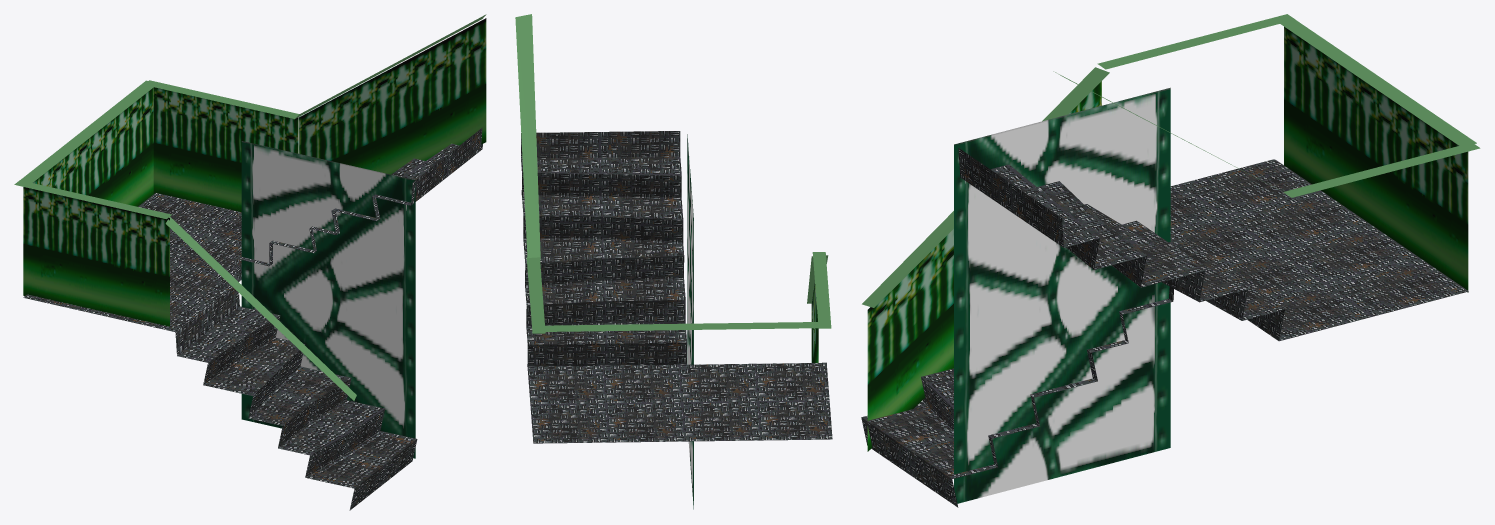
Rendered from Polizei_Treppe_2543.glb.
3 views of the same model, side by side, from view 1: azimuth 30°, elevation 25°; view 2: azimuth 150°, elevation 25°; view 3: azimuth 270°, elevation 25° (orthographic). The views are drawn at different scales.
Visible parts, largest first — view 1: pPlaneShape50, pPlaneShape64, pPlaneShape52, pPlaneShape54, pPlaneShape53, pPlaneShape63, pPlaneShape55, pPlaneShape62, pPlaneShape56, pPlaneShape58, pPlaneShape59, pPlaneShape60 (+1 smaller); view 2: pPlaneShape62, pPlaneShape63, pPlaneShape57, pPlaneShape58, pPlaneShape61, pPlaneShape59, pPlaneShape60, pPlaneShape51; view 3: pPlaneShape61, pPlaneShape63, pPlaneShape55, pPlaneShape62, pPlaneShape51, pPlaneShape64, pPlaneShape58, pPlaneShape56, pPlaneShape60, pPlaneShape59.
Part boxes in pixels (left/top/right/bottom): pPlaneShape50: left=241, top=141, right=415, bottom=458; pPlaneShape64: left=175, top=287, right=417, bottom=510; pPlaneShape52: left=299, top=18, right=486, bottom=174; pPlaneShape54: left=23, top=187, right=169, bottom=326; pPlaneShape53: left=153, top=87, right=298, bottom=211; pPlaneShape63: left=23, top=193, right=241, bottom=332; pPlaneShape55: left=33, top=88, right=153, bottom=206; pPlaneShape62: left=233, top=127, right=482, bottom=281; pPlaneShape56: left=165, top=217, right=356, bottom=400; pPlaneShape58: left=19, top=80, right=158, bottom=183; pPlaneShape59: left=14, top=180, right=171, bottom=219; pPlaneShape60: left=149, top=80, right=299, bottom=118; pPlaneShape62: left=521, top=131, right=686, bottom=366; pPlaneShape63: left=527, top=362, right=832, bottom=443; pPlaneShape57: left=515, top=14, right=540, bottom=259; pPlaneShape58: left=538, top=322, right=821, bottom=331; pPlaneShape61: left=687, top=134, right=693, bottom=509; pPlaneShape59: left=812, top=252, right=831, bottom=328; pPlaneShape60: left=526, top=257, right=545, bottom=333; pPlaneShape51: left=811, top=283, right=818, bottom=363; pPlaneShape61: left=954, top=87, right=1170, bottom=503; pPlaneShape63: left=1170, top=159, right=1468, bottom=341; pPlaneShape55: left=1284, top=26, right=1468, bottom=292; pPlaneShape62: left=958, top=148, right=1284, bottom=340; pPlaneShape51: left=867, top=81, right=1101, bottom=451; pPlaneShape64: left=861, top=287, right=1173, bottom=507; pPlaneShape58: left=1278, top=18, right=1476, bottom=147; pPlaneShape56: left=862, top=67, right=1109, bottom=307; pPlaneShape60: left=1283, top=144, right=1480, bottom=197; pPlaneShape59: left=1097, top=14, right=1293, bottom=69.
Bounding box in the file's own units: 0.5656 × 0.5464 × 0.6065.
15 materials, 10 textured.
